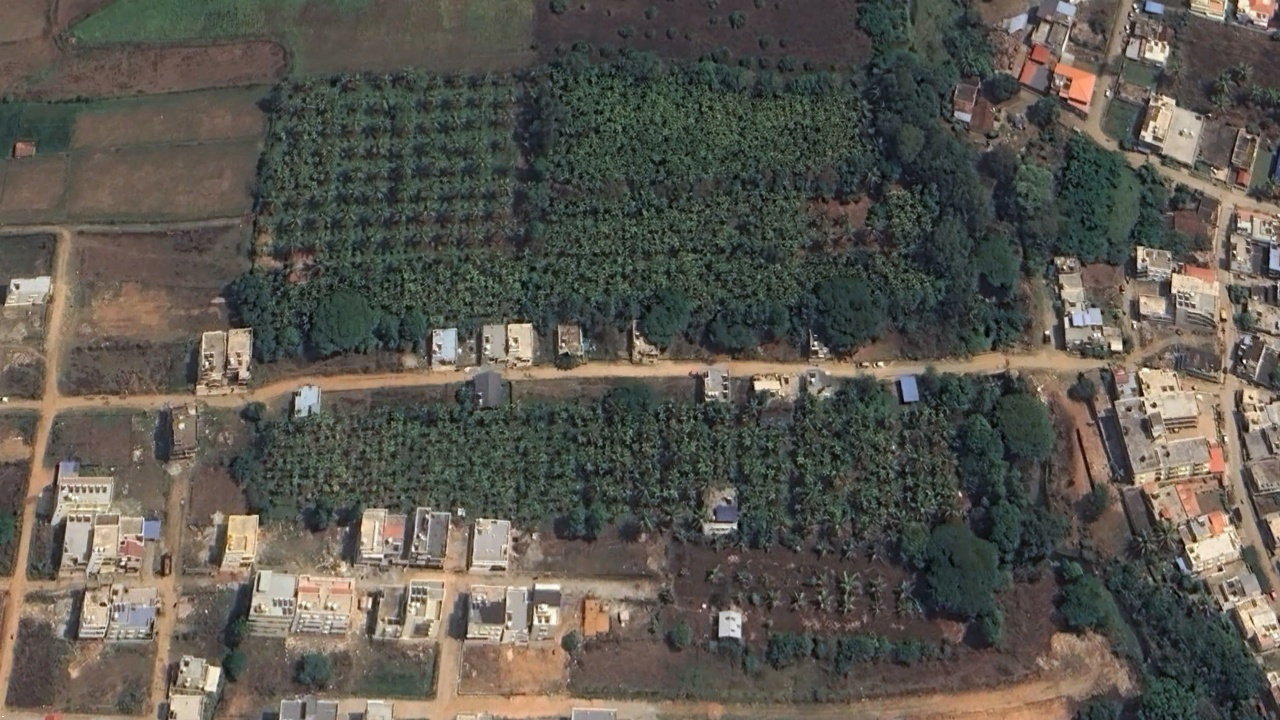arecanut: (285, 86, 870, 274), (285, 409, 953, 499)
